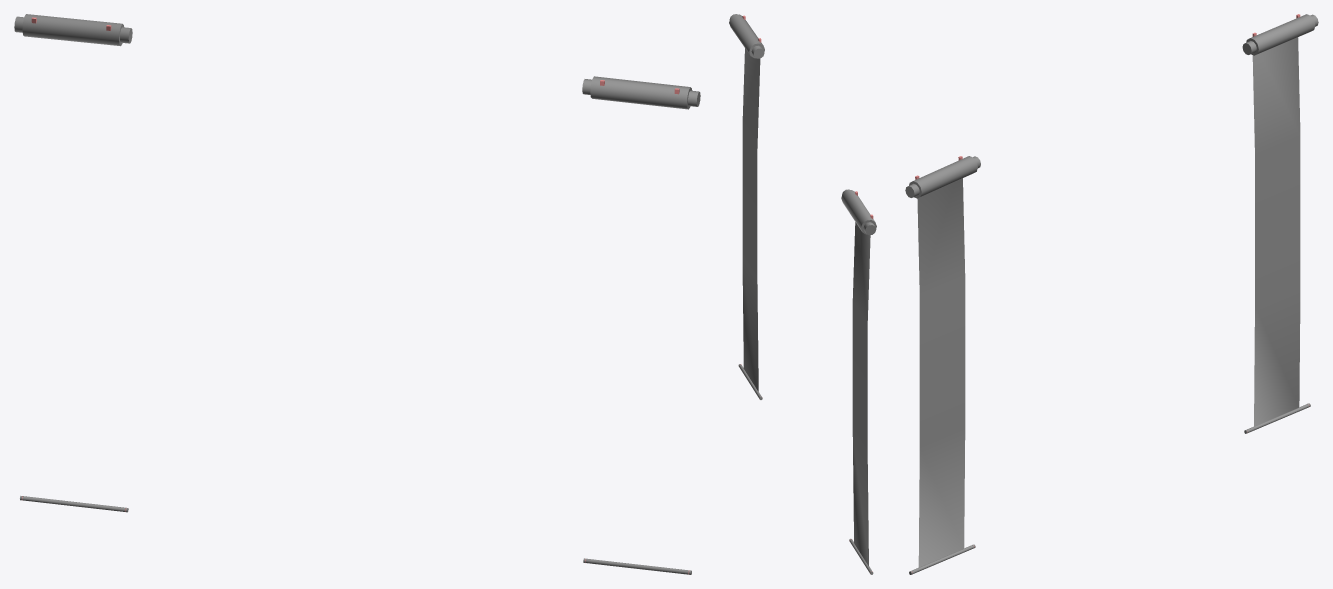
File: SM_ENV_KNVLLG03_AreaB_BuildingAd.gltf
3 renders of one model, left to right at view 1: azimuth 30°, elevation 25°; view 2: azimuth 150°, elevation 25°; view 3: azimuth 270°, elevation 25°, orthographic. The views are drawn at different scales.
Parts seen in each view (by area): view 1: SM_ENV_KNVLLG03_AreaB_BuildingAd; view 2: SM_ENV_KNVLLG03_AreaB_BuildingAd; view 3: SM_ENV_KNVLLG03_AreaB_BuildingAd.
Part boxes in pixels (left/top/right/bottom): SM_ENV_KNVLLG03_AreaB_BuildingAd: left=14, top=14, right=700, bottom=574; SM_ENV_KNVLLG03_AreaB_BuildingAd: left=729, top=14, right=876, bottom=574; SM_ENV_KNVLLG03_AreaB_BuildingAd: left=905, top=14, right=1318, bottom=574.
Bounding box in the file's own units: 14.64 × 15.35 × 14.52.
